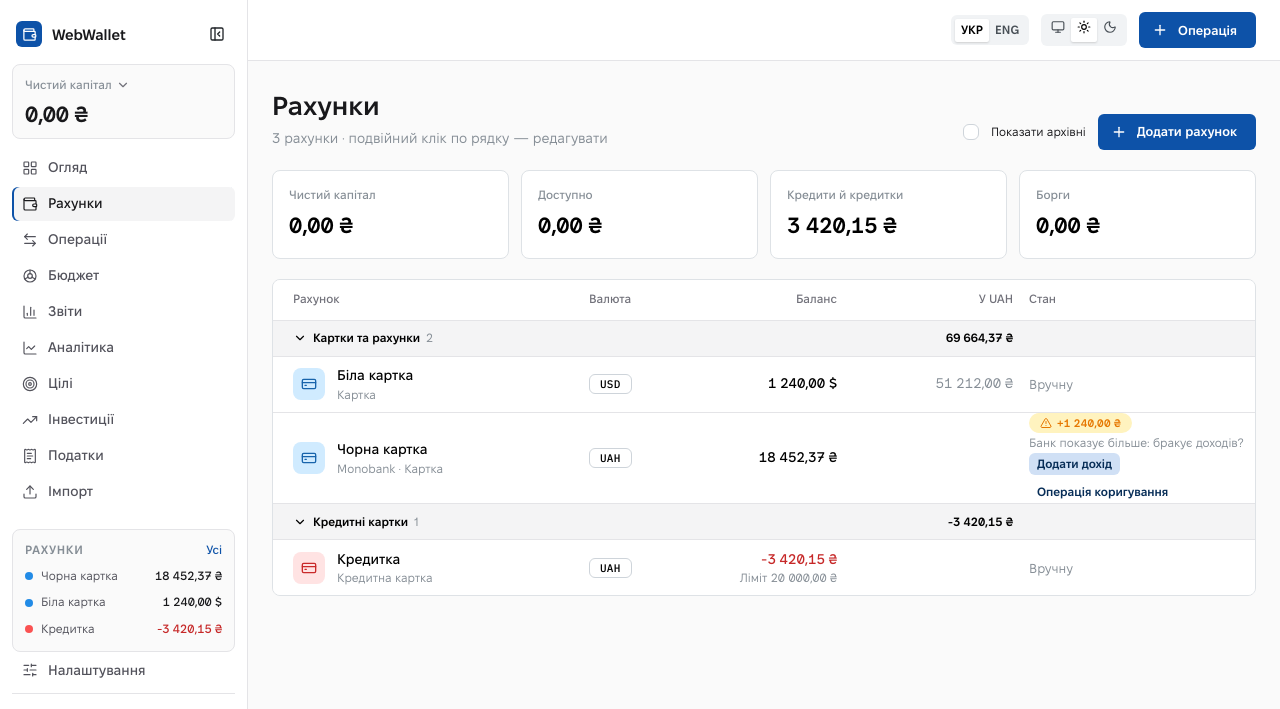
Test: lists accounts by group with base amounts and the Monobank difference
The width and height of the screenshot is (1280, 709).
Expected: the text "Картки та рахунки" is shown, [313, 329, 420, 348]
Expected: the text "Чорна картка" in the row of "Банк показує більше: бракує доходів?" is shown, [337, 441, 428, 457]
Click the checkbox labelled "Показати архівні" at (971, 132), box [963, 124, 979, 140]
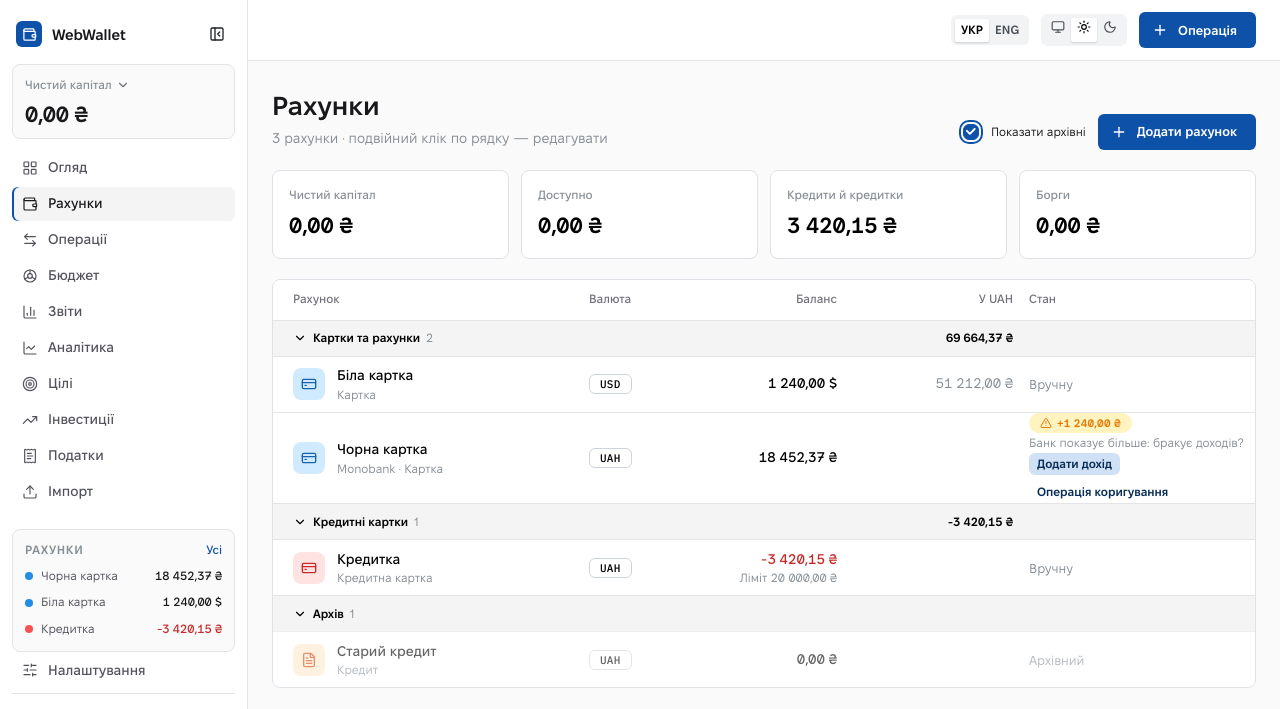
Expected: the text "Старий кредит" is shown, [337, 641, 437, 662]
// The missing income is added with the form, the account and the amount filled in
Click the button "Додати дохід" at (1075, 464), box [1029, 454, 1120, 476]
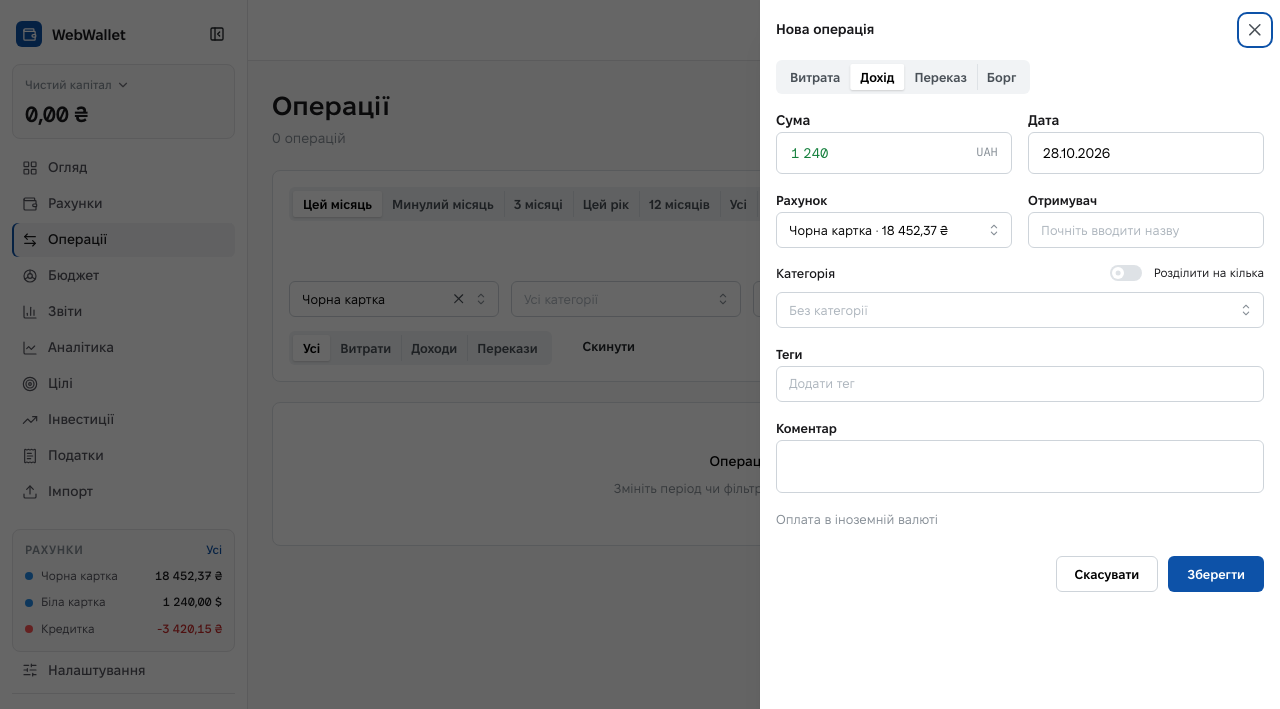
Expected: the field labelled "Сума" holds "1 240", [776, 132, 1012, 174]
Expected: the 4th radio button labelled "Дохід" is checked, [860, 70, 894, 84]
